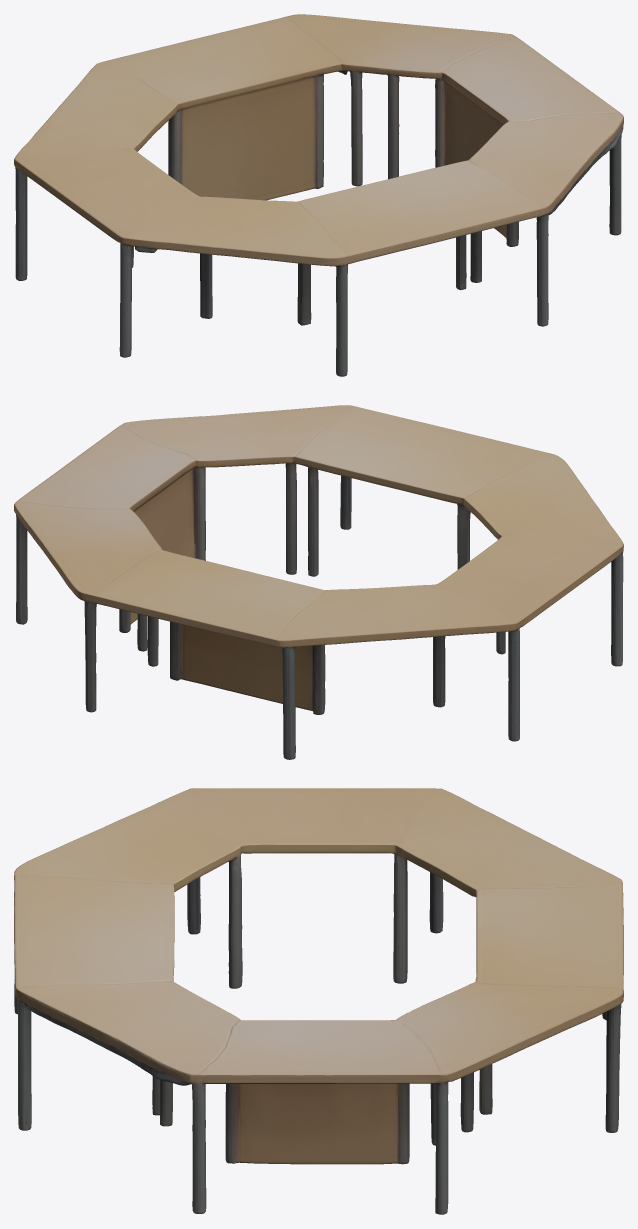
Rendered from sam3d.glb.
3 views of the same model, one above another, from view 1: azimuth 30°, elevation 25°; view 2: azimuth 150°, elevation 25°; view 3: azimuth 270°, elevation 25° (orthographic). The views are drawn at different scales.
Visible parts, largest first — view 1: world; view 2: world; view 3: world.
Boxes of the visible parts, box(x1,y1,x2,y2) form: world: box(14, 14, 623, 376); world: box(14, 405, 623, 759); world: box(14, 788, 623, 1214).
Size of the model in its own units: 1 by 0.232 by 0.9004.
